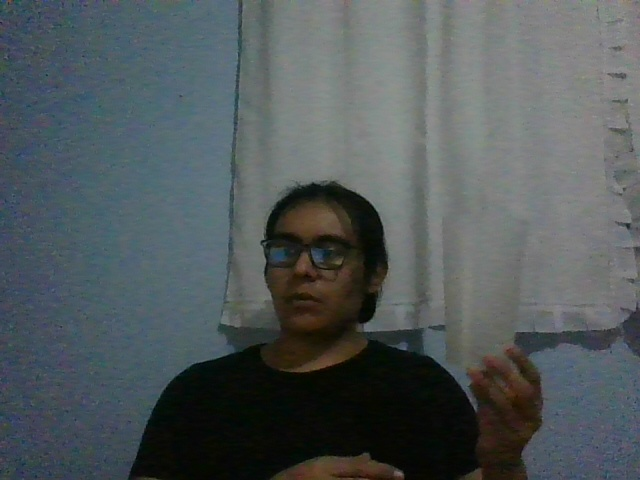vaso: (440, 215, 528, 369)
